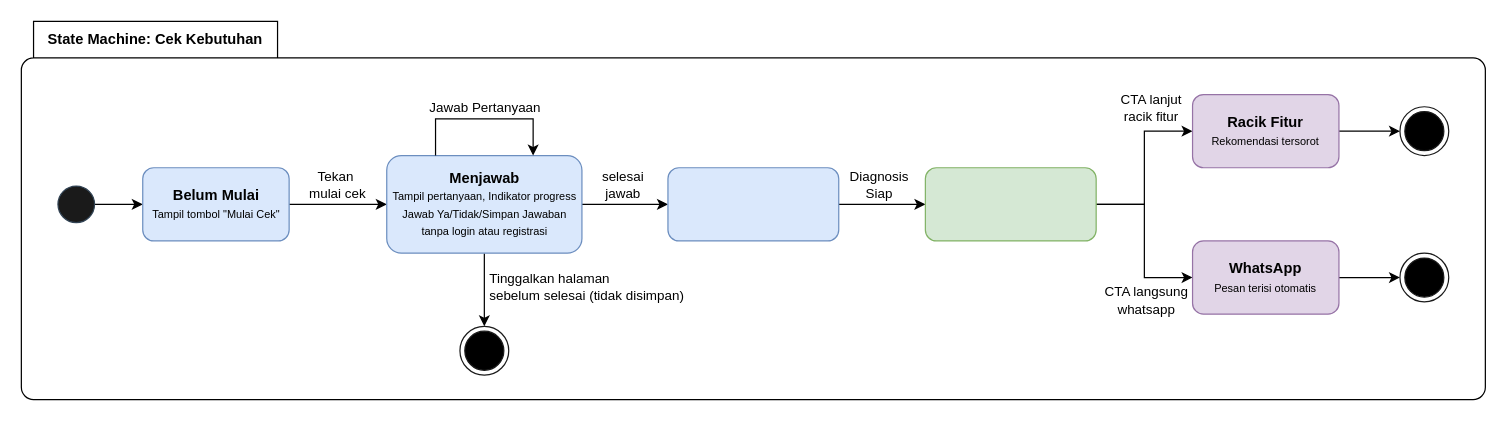
The diagram is 1507 pixels wide and 421 high, and some of its shapes have lost their labels. Each missing label, with the box of its shape:
Menampilkan Hasil Tampil Diagnosis, rekomendasi fitur + 2 CTA: (924, 167, 1096, 241)
Menyusun Diagnosis Diagnosis + Fitur rekomendasi: (667, 167, 839, 241)
